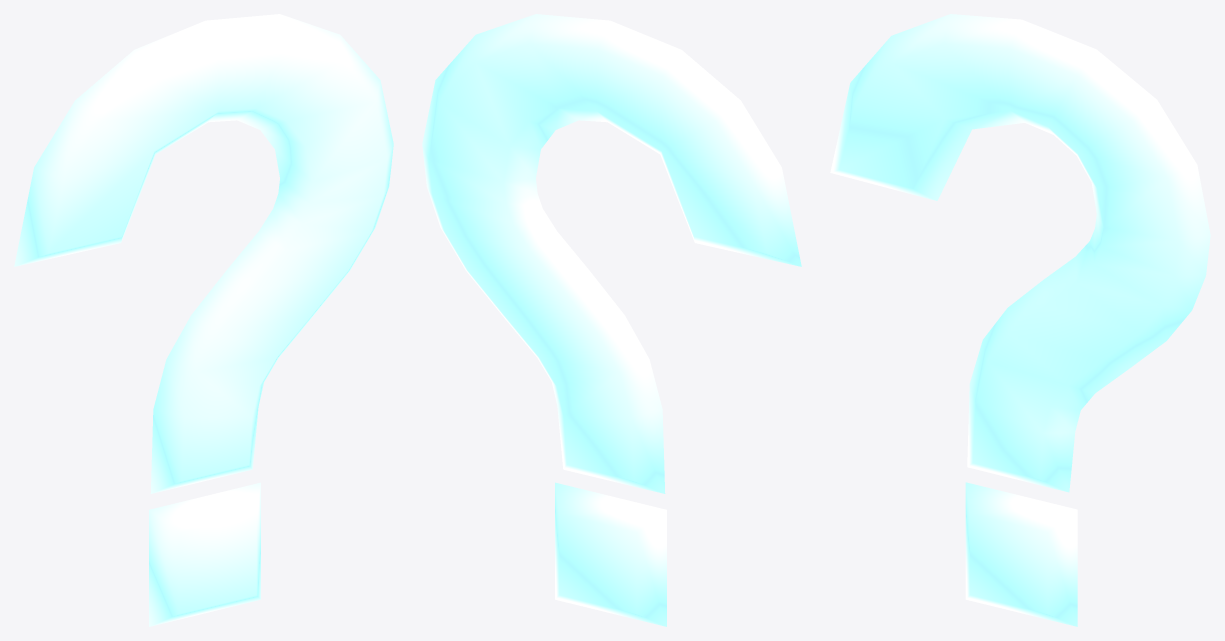
Rendered from obj_mark01.gltf.
3 renders of one model, left to right at view 1: azimuth 30°, elevation 25°; view 2: azimuth 150°, elevation 25°; view 3: azimuth 330°, elevation 25°, orthographic.
Parts seen in each view (by area): view 1: obj_mark01; view 2: obj_mark01; view 3: obj_mark01.
Part boxes in pixels (x1=…): obj_mark01: x1=14, y1=14, x2=393, y2=626; obj_mark01: x1=422, y1=14, x2=801, y2=626; obj_mark01: x1=830, y1=14, x2=1210, y2=626.
Size of the model in its own units: 0.419 by 0.6249 by 0.0492.
